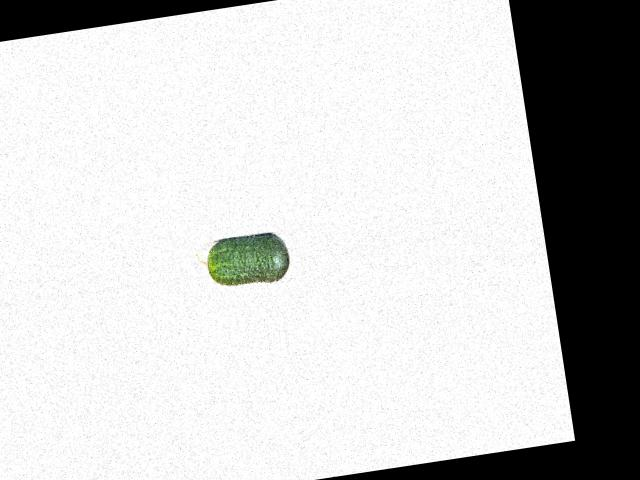cucumber: (194, 230, 292, 291)
